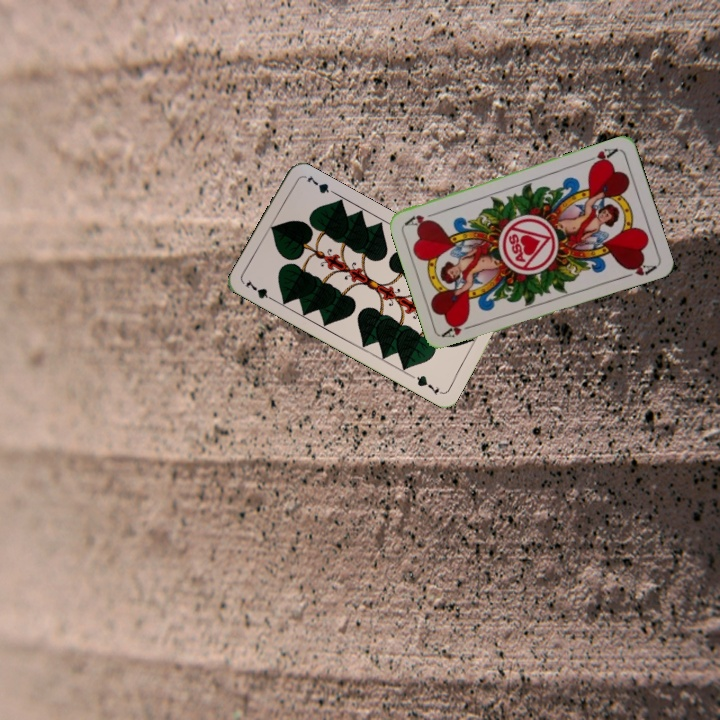G7: (241, 276, 278, 304)
HA: (581, 144, 620, 169), (439, 316, 479, 340)
